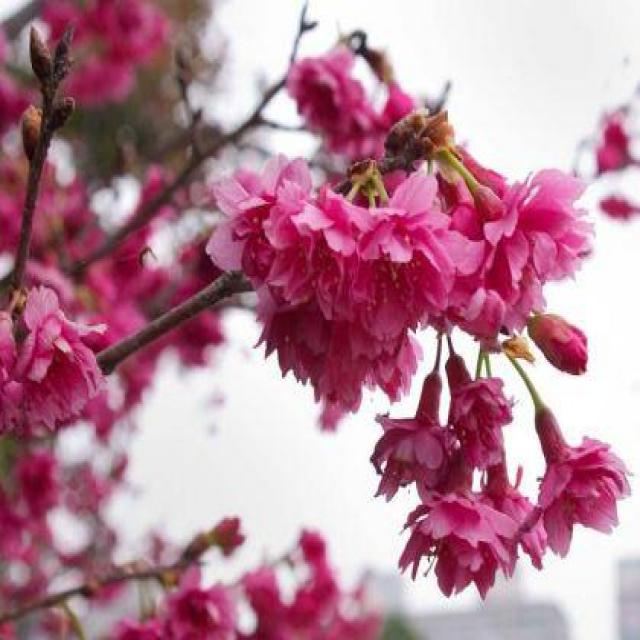organic waste: (382, 116, 589, 366), (211, 164, 431, 398), (493, 340, 621, 542), (367, 348, 460, 508), (5, 283, 100, 429), (399, 488, 517, 594), (434, 341, 511, 470)
